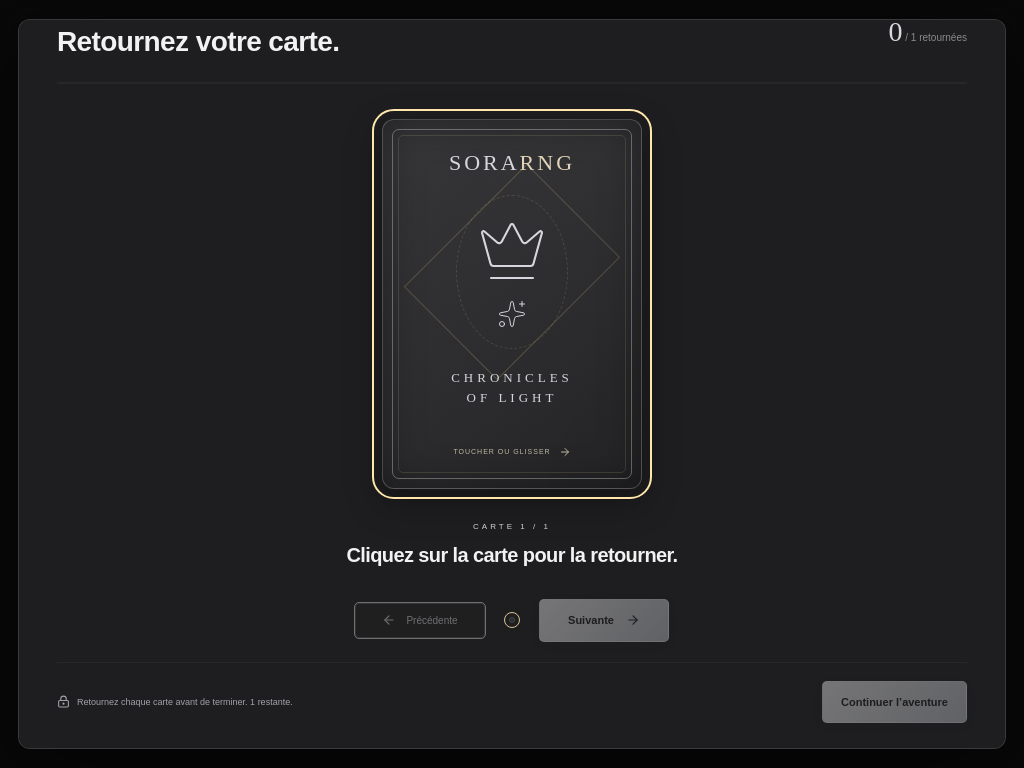
it: même sans animation, retourner la carte est obligatoire avant de quitter
Later steps or results of the test are not shown.
(page scrolled)
Check: the heading "Carte de test" is not shown
Click the button "Continuer l’aventure" at (894, 702), box top-left (822, 681), bottom-right (967, 723)
Press Escape
Click the button with aria-label "Retourner la carte 1" at (512, 304), box top-left (382, 119), bottom-right (642, 489)
(page scrolled)
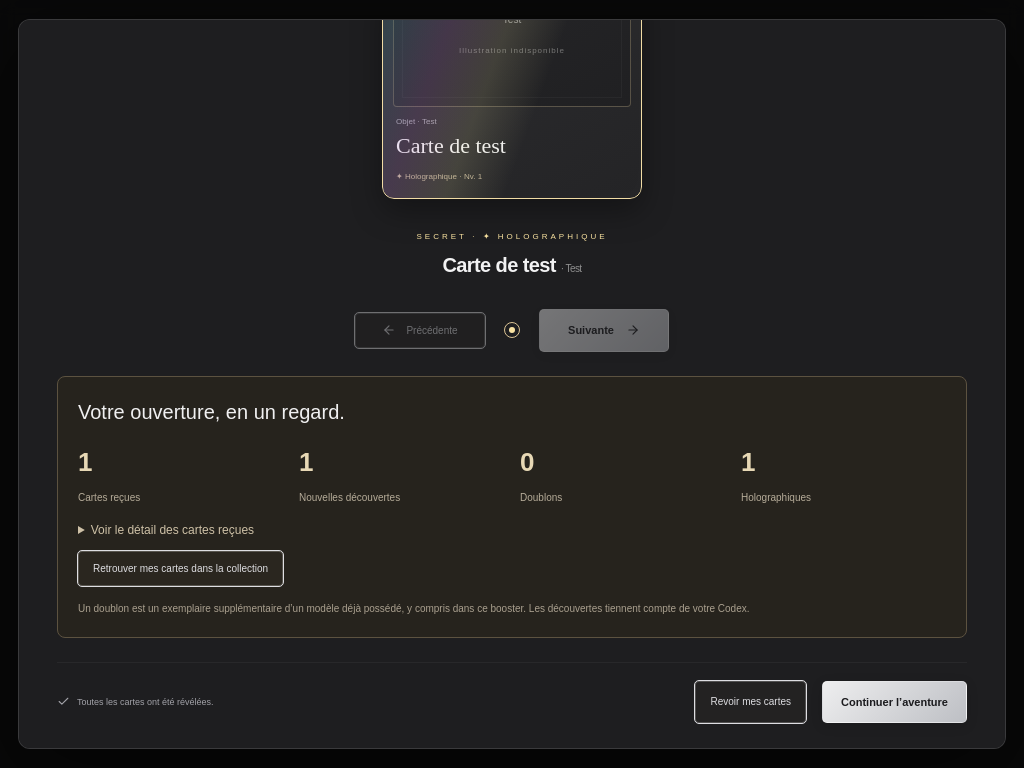
Check: the heading "Carte de test" is shown, box top-left (396, 133), bottom-right (506, 158)
Check: the text "✦ Holographique · Nv. 1" is shown, box top-left (396, 172), bottom-right (482, 181)
Check: the button "Continuer l’aventure" is enabled, box top-left (822, 681), bottom-right (967, 723)
